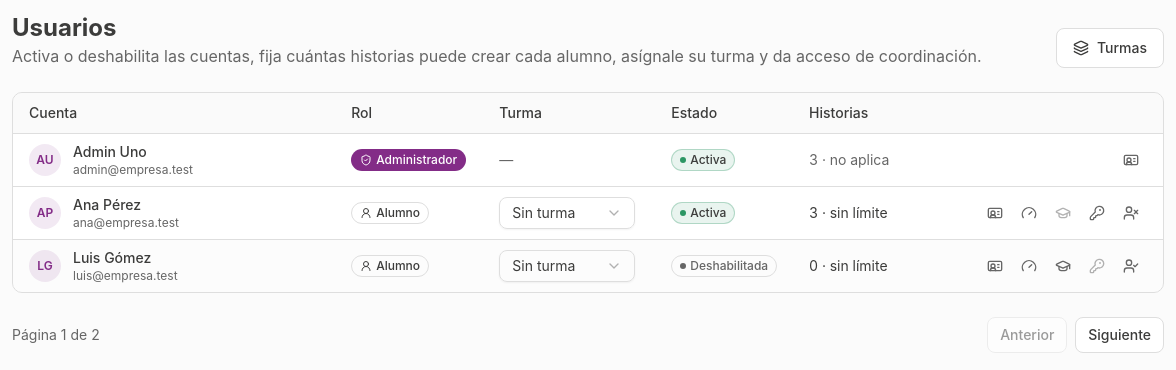
Test case: users — Pantalla de usuarios para administradores › Cambio de página: muestra la página pedida y 'Siguiente' se deshabilita en la última
This screenshot has width=1176, height=370.
Expected: the row "Ana Pérez" is shown, [13,186,1163,239]
Expected: the button "Anterior" is disabled, [987,316,1067,352]
Step 1. Click the button "Siguiente" → (1120, 334), box [1075,316,1164,352]
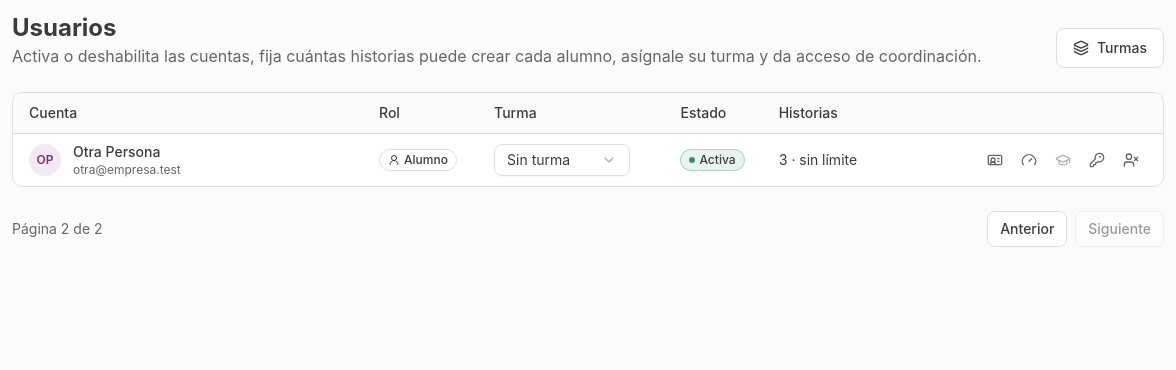
Now the row "Otra Persona" is shown, box [13,133,1163,186]
Now the text "Página 2 de 2" is shown, box [12,218,103,238]
Now the button "Siguiente" is disabled, box [1075,210,1164,246]
